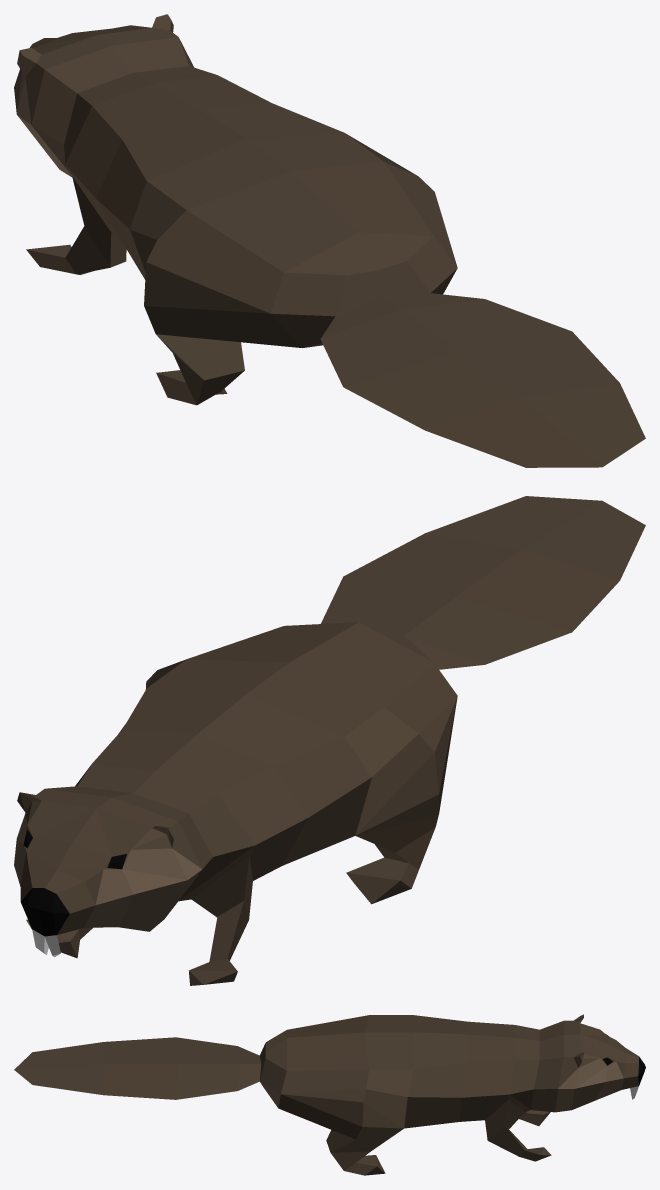
File: Beaver.fbx
The picture shows the model from 3 angles, top to bottom: view 1: azimuth 30°, elevation 25°; view 2: azimuth 150°, elevation 25°; view 3: azimuth 270°, elevation 25°; orthographic projection. The views are drawn at different scales.
Parts seen in each view (by area): view 1: Beaver; view 2: Beaver; view 3: Beaver.
Boxes of the visible parts, <box> form: Beaver: <box>14,14,645,467</box>; Beaver: <box>14,496,645,985</box>; Beaver: <box>14,1014,645,1175</box>.
Size of the model in its own units: 99.4 by 66.4 by 329.
